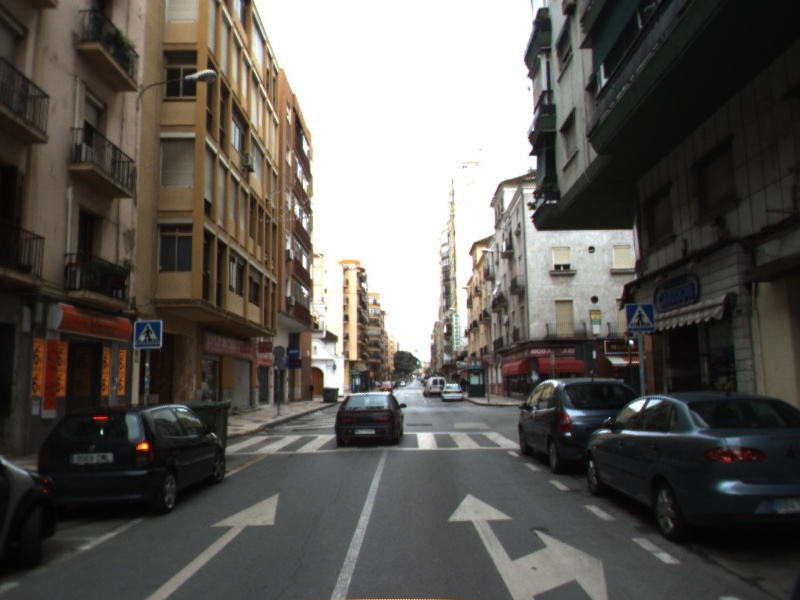STRAIGHT: (143, 491, 281, 600)
STRAIGHT_RIGHT: (445, 491, 610, 600)
